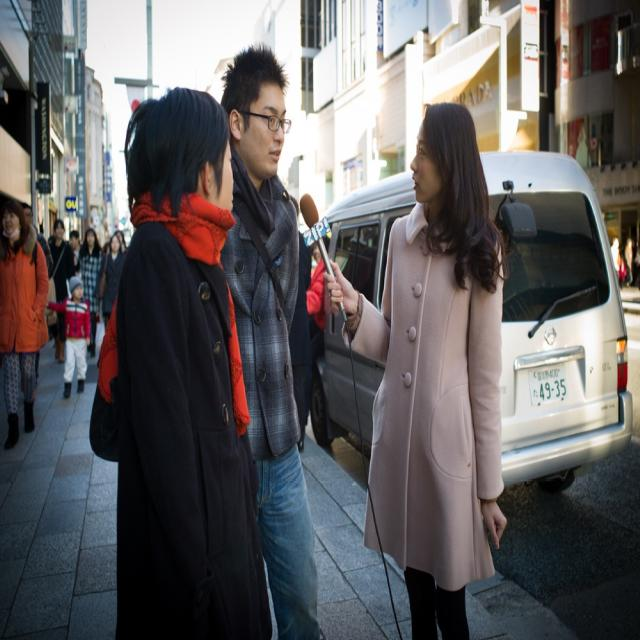body: (86, 80, 278, 639), (321, 100, 512, 640), (218, 42, 324, 640), (0, 195, 51, 453), (17, 200, 55, 406), (285, 192, 314, 454), (43, 274, 92, 399), (46, 218, 77, 367), (77, 227, 104, 361), (94, 232, 126, 337), (303, 235, 328, 333), (608, 234, 639, 290), (571, 116, 596, 167), (68, 227, 82, 251), (116, 229, 125, 246), (101, 240, 110, 253)
